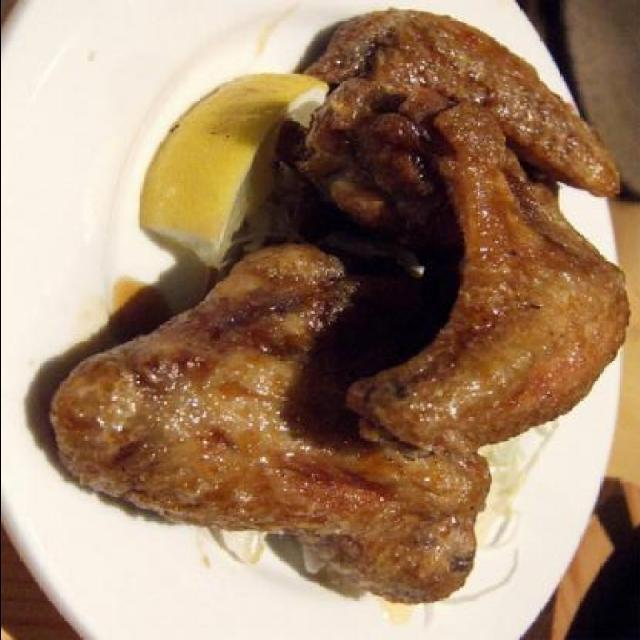Deep fried chicken wing: (67, 22, 616, 610)
Lemon: (128, 63, 322, 271)
